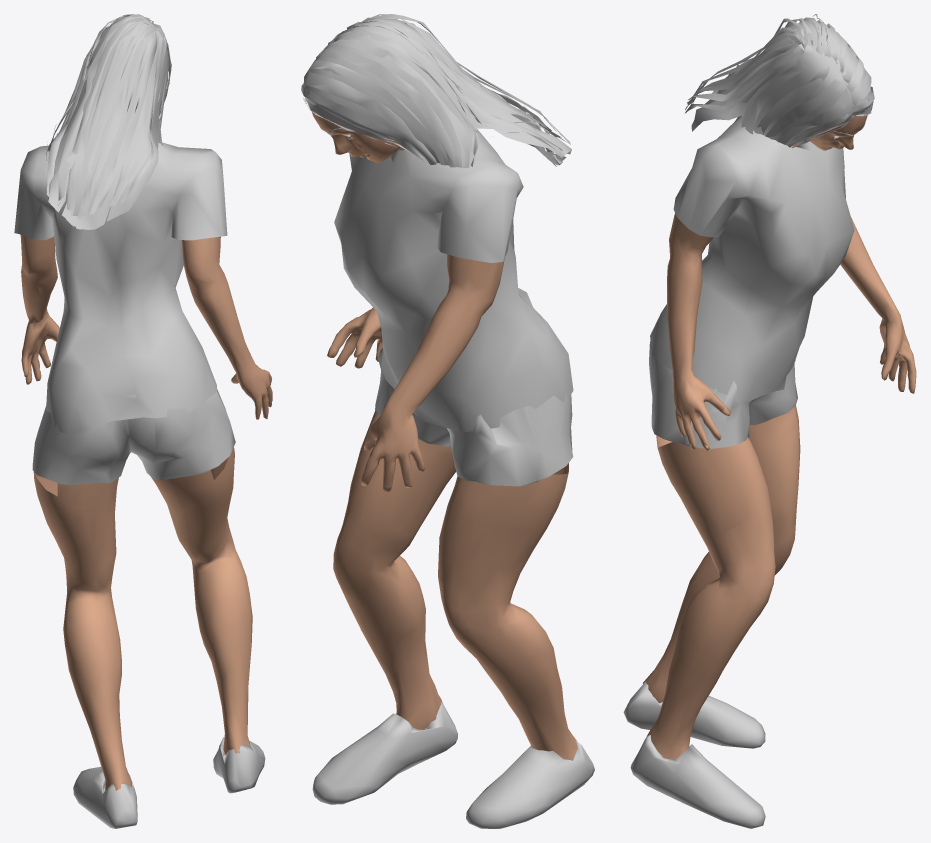
Rendered from player2att_000010.obj.
3 renders of one model, left to right at view 1: azimuth 30°, elevation 25°; view 2: azimuth 150°, elevation 25°; view 3: azimuth 270°, elevation 25°, orthographic. The views are drawn at different scales.
Visible parts, largest first — view 1: player2:Body, player2:tshirt02, player2:fhair01, player2:short01, player2:shoes02; view 2: player2:Body, player2:tshirt02, player2:fhair01, player2:shoes02, player2:short01; view 3: player2:Body, player2:tshirt02, player2:fhair01, player2:shoes02, player2:short01.
Boxes of the visible parts, box(x1,y1,x2,y2) form: player2:Body: box(20, 82, 272, 790); player2:tshirt02: box(14, 142, 227, 434); player2:fhair01: box(44, 14, 171, 229); player2:short01: box(32, 389, 235, 485); player2:shoes02: box(73, 737, 265, 828); player2:Body: box(312, 111, 577, 760); player2:tshirt02: box(334, 128, 573, 431); player2:fhair01: box(301, 14, 571, 168); player2:shoes02: box(312, 701, 594, 828); player2:short01: box(375, 348, 573, 486); player2:Body: box(643, 115, 916, 759); player2:tshirt02: box(650, 116, 854, 402); player2:fhair01: box(685, 14, 874, 148); player2:shoes02: box(623, 681, 765, 828); player2:short01: box(649, 336, 797, 448).
Bounding box in the file's own units: 5.05 × 16.11 × 5.59.
